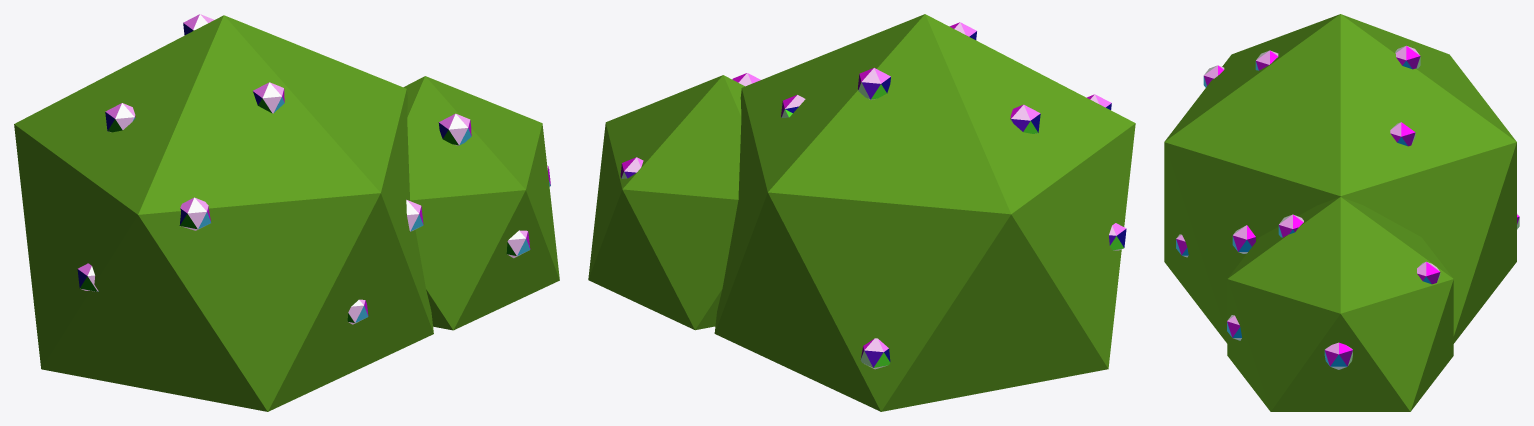
File: forest_fruit_bush.glb
3 views of the same model, side by side, from view 1: azimuth 30°, elevation 25°; view 2: azimuth 150°, elevation 25°; view 3: azimuth 270°, elevation 25° (orthographic). The views are drawn at different scales.
Parts seen in each view (by area): view 1: forest_fruit_bush; view 2: forest_fruit_bush; view 3: forest_fruit_bush.
Part boxes in pixels (<box>): forest_fruit_bush: <box>14,14,559,411</box>; forest_fruit_bush: <box>588,14,1135,411</box>; forest_fruit_bush: <box>1164,14,1519,411</box>.
Size of the model in its own units: 0.68 by 0.4055 by 0.4704.
